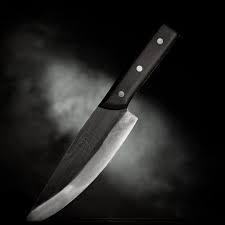Knife: (25, 22, 178, 222)
